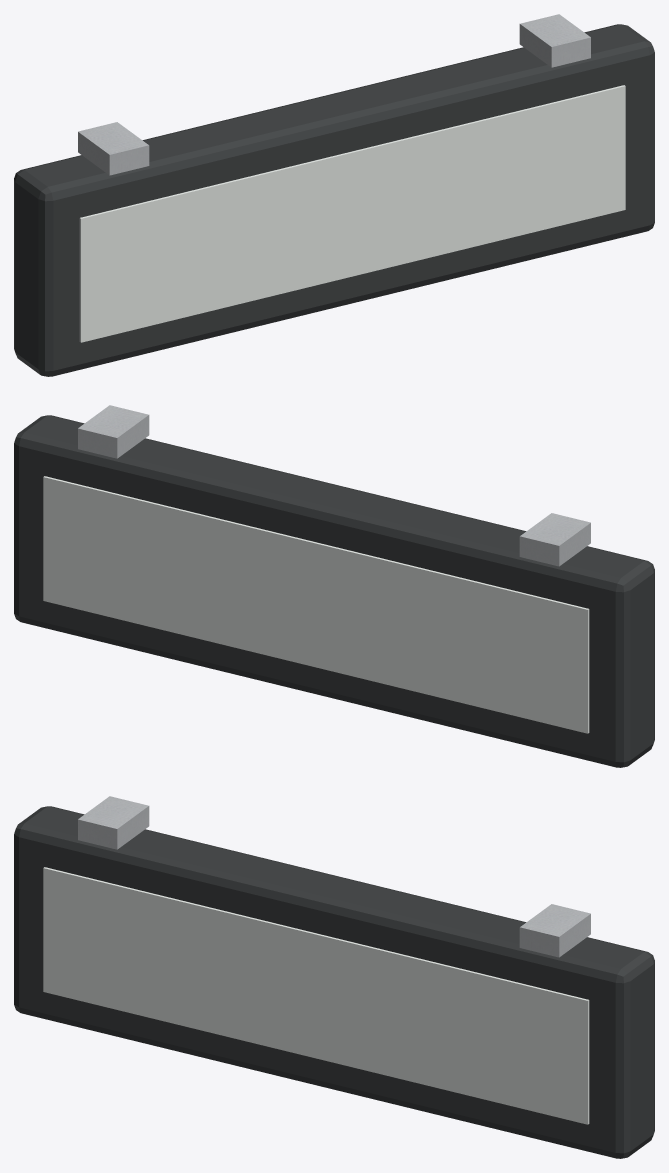
The model's file is exit_sign.glb.
3 renders of one model, top to bottom at view 1: azimuth 30°, elevation 25°; view 2: azimuth 150°, elevation 25°; view 3: azimuth 330°, elevation 25°, orthographic.
Visible parts, largest first — view 1: Blank face for runtime EXIT text, Rectangular exit housing, Straight top mount, Straight top mount.001; view 2: Blank face for runtime EXIT text.001, Rectangular exit housing, Straight top mount, Straight top mount.001; view 3: Blank face for runtime EXIT text, Rectangular exit housing, Straight top mount.001, Straight top mount.
Boxes of the visible parts, <box> form: Blank face for runtime EXIT text: <box>79,85,625,342</box>; Rectangular exit housing: <box>14,24,654,376</box>; Straight top mount: <box>78,122,149,175</box>; Straight top mount.001: <box>519,14,590,67</box>; Blank face for runtime EXIT text.001: <box>43,476,589,733</box>; Rectangular exit housing: <box>14,415,654,767</box>; Straight top mount: <box>519,513,590,566</box>; Straight top mount.001: <box>78,405,149,458</box>; Blank face for runtime EXIT text: <box>43,867,589,1124</box>; Rectangular exit housing: <box>14,806,654,1158</box>; Straight top mount.001: <box>519,904,590,957</box>; Straight top mount: <box>78,796,149,849</box>.
Size of the model in its own units: 0.78 by 0.2555 by 0.083.
3 materials, 1 textured.
